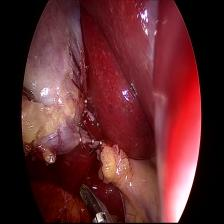Scissors: (78, 182, 112, 224)
